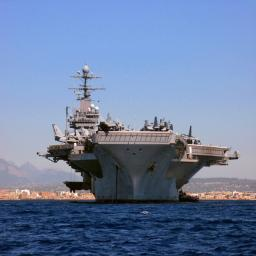Portanaves: (37, 62, 242, 205)
